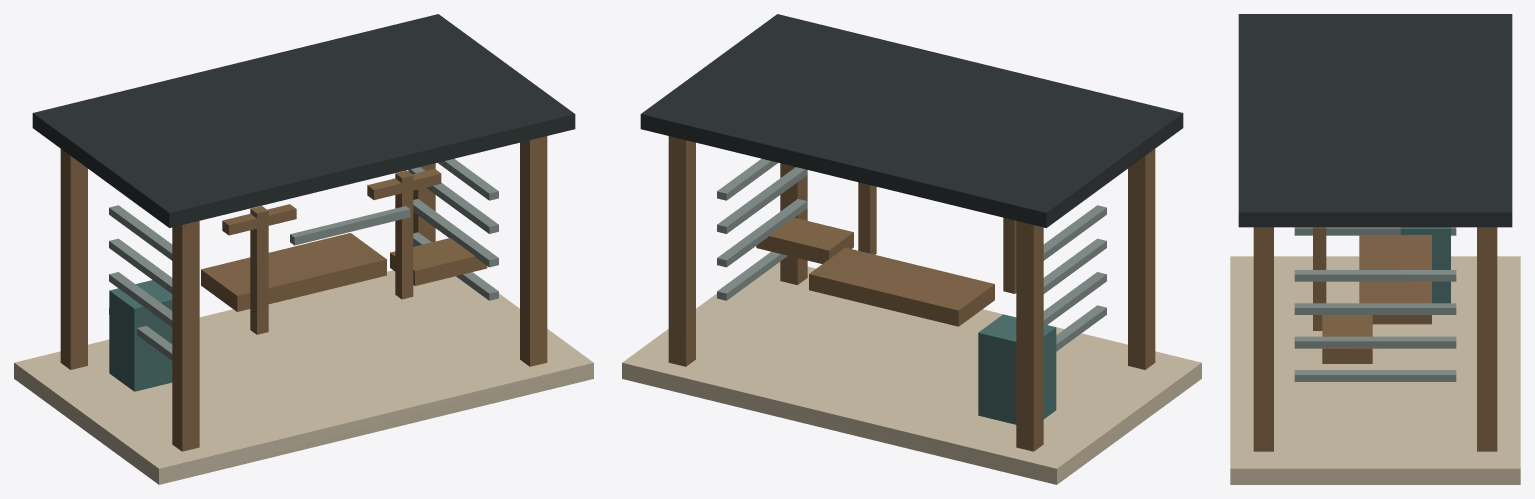
File: Basket-Workshop.glb
3 renders of one model, left to right at view 1: azimuth 30°, elevation 25°; view 2: azimuth 150°, elevation 25°; view 3: azimuth 270°, elevation 25°, orthographic.
Visible parts, largest first — view 1: basket-workshop-static-basket-iron, basket-workshop-static-basket-cream, basket-workshop-static-basket-timber, basket-workshop-static-basket-galv, basket-workshop-static-basket-teal; view 2: basket-workshop-static-basket-iron, basket-workshop-static-basket-cream, basket-workshop-static-basket-timber, basket-workshop-static-basket-galv, basket-workshop-static-basket-teal; view 3: basket-workshop-static-basket-iron, basket-workshop-static-basket-cream, basket-workshop-static-basket-timber, basket-workshop-static-basket-galv, basket-workshop-static-basket-teal.
Part boxes in pixels (bbox=[...]): basket-workshop-static-basket-iron: bbox=[32, 14, 575, 227]; basket-workshop-static-basket-cream: bbox=[14, 270, 593, 484]; basket-workshop-static-basket-timber: bbox=[60, 136, 547, 451]; basket-workshop-static-basket-galv: bbox=[109, 158, 498, 360]; basket-workshop-static-basket-teal: bbox=[109, 280, 172, 391]; basket-workshop-static-basket-iron: bbox=[640, 14, 1183, 227]; basket-workshop-static-basket-cream: bbox=[622, 262, 1201, 484]; basket-workshop-static-basket-timber: bbox=[668, 136, 1155, 451]; basket-workshop-static-basket-galv: bbox=[717, 158, 1106, 351]; basket-workshop-static-basket-teal: bbox=[978, 314, 1056, 424]; basket-workshop-static-basket-iron: bbox=[1238, 14, 1512, 227]; basket-workshop-static-basket-cream: bbox=[1230, 256, 1520, 484]; basket-workshop-static-basket-timber: bbox=[1253, 227, 1497, 451]; basket-workshop-static-basket-galv: bbox=[1294, 227, 1456, 381]; basket-workshop-static-basket-teal: bbox=[1400, 227, 1450, 303].
Size of the model in its own units: 4.5 by 2.62 by 2.6.
